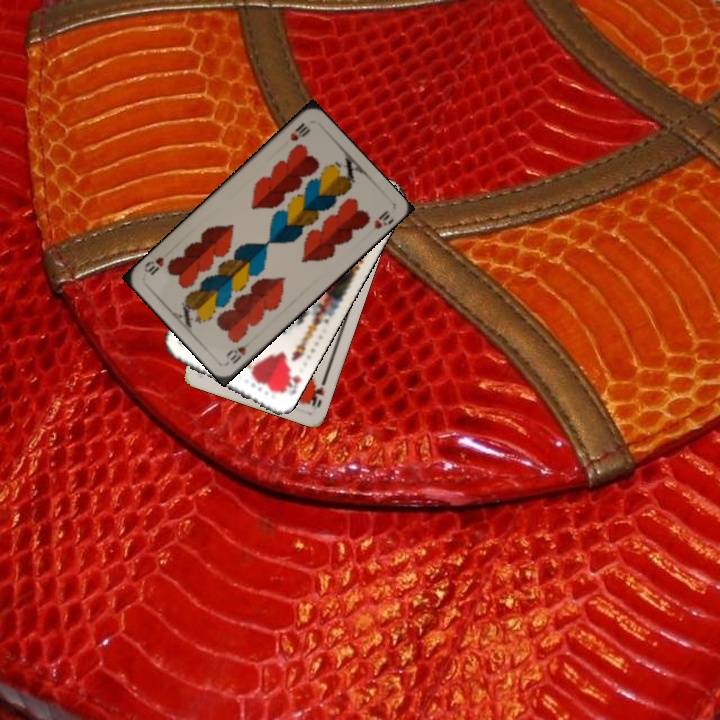H10: (222, 334, 255, 367), (286, 119, 313, 144)
HK: (275, 366, 304, 398)
HO: (304, 372, 330, 410)
